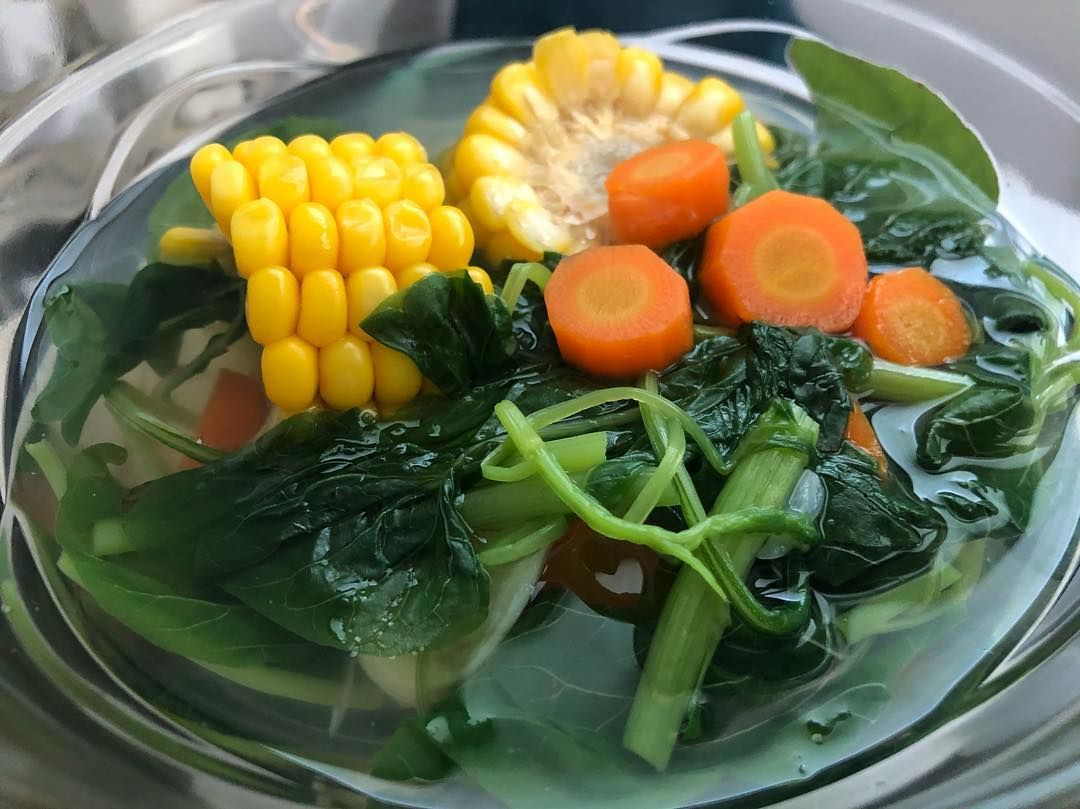Sayur Bayam: (120, 33, 1040, 749)
